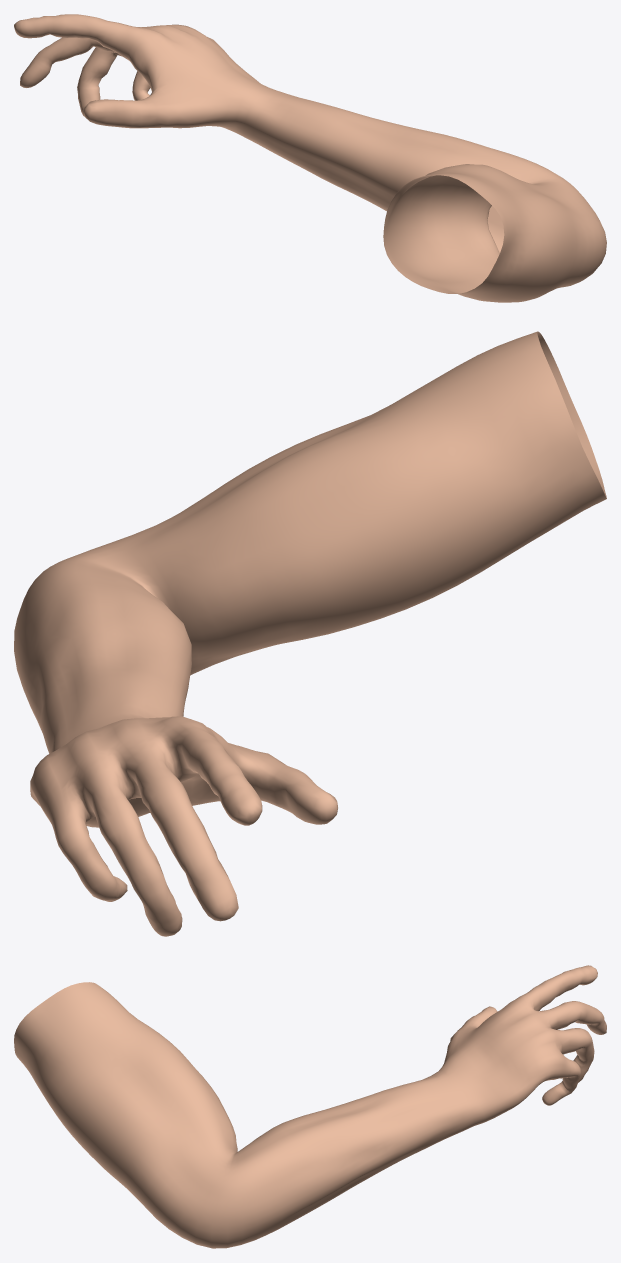
Rendered from right.obj.
3 views of the same model, one above another, from view 1: azimuth 30°, elevation 25°; view 2: azimuth 150°, elevation 25°; view 3: azimuth 270°, elevation 25° (orthographic). The views are drawn at different scales.
Parts seen in each view (by area): view 1: right; view 2: right; view 3: right.
Part boxes in pixels (<box>): right: <box>14,14,606,302</box>; right: <box>14,331,606,936</box>; right: <box>14,965,606,1248</box>.
Size of the model in its own units: 41.48 by 23.32 by 69.19.
1 material, 1 textured.
